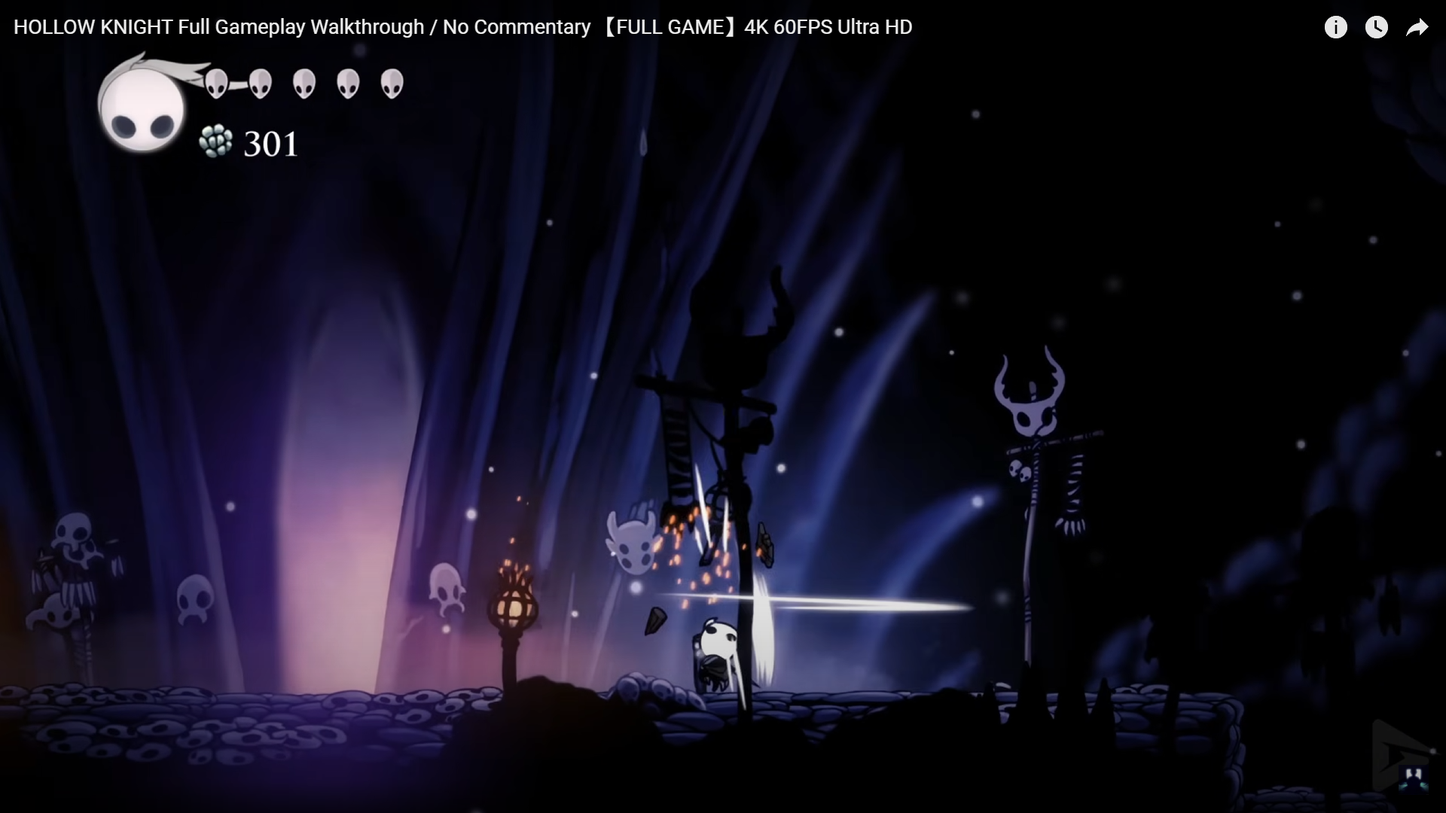HK: (695, 612, 746, 699)
